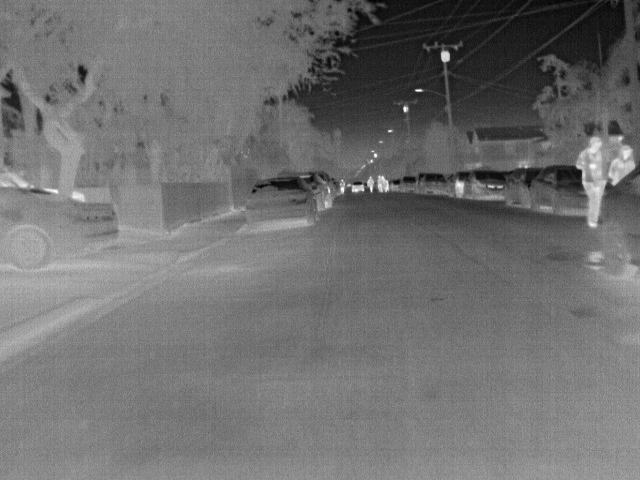car: (3, 188, 122, 270), (593, 167, 638, 275), (242, 174, 318, 232), (528, 165, 590, 214), (504, 167, 540, 202), (298, 175, 333, 210), (464, 169, 503, 199), (417, 170, 449, 195), (446, 170, 469, 198), (318, 170, 339, 200), (400, 175, 420, 193), (389, 178, 403, 193), (352, 181, 367, 192)
person: (573, 136, 609, 229), (610, 144, 638, 190), (373, 174, 385, 192), (367, 175, 376, 193), (340, 178, 348, 195)
